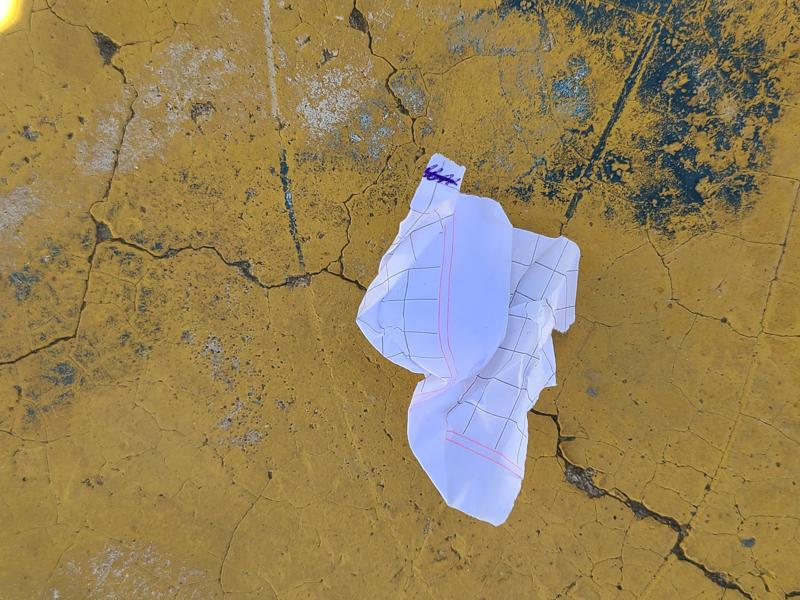papel: (355, 155, 581, 528)
